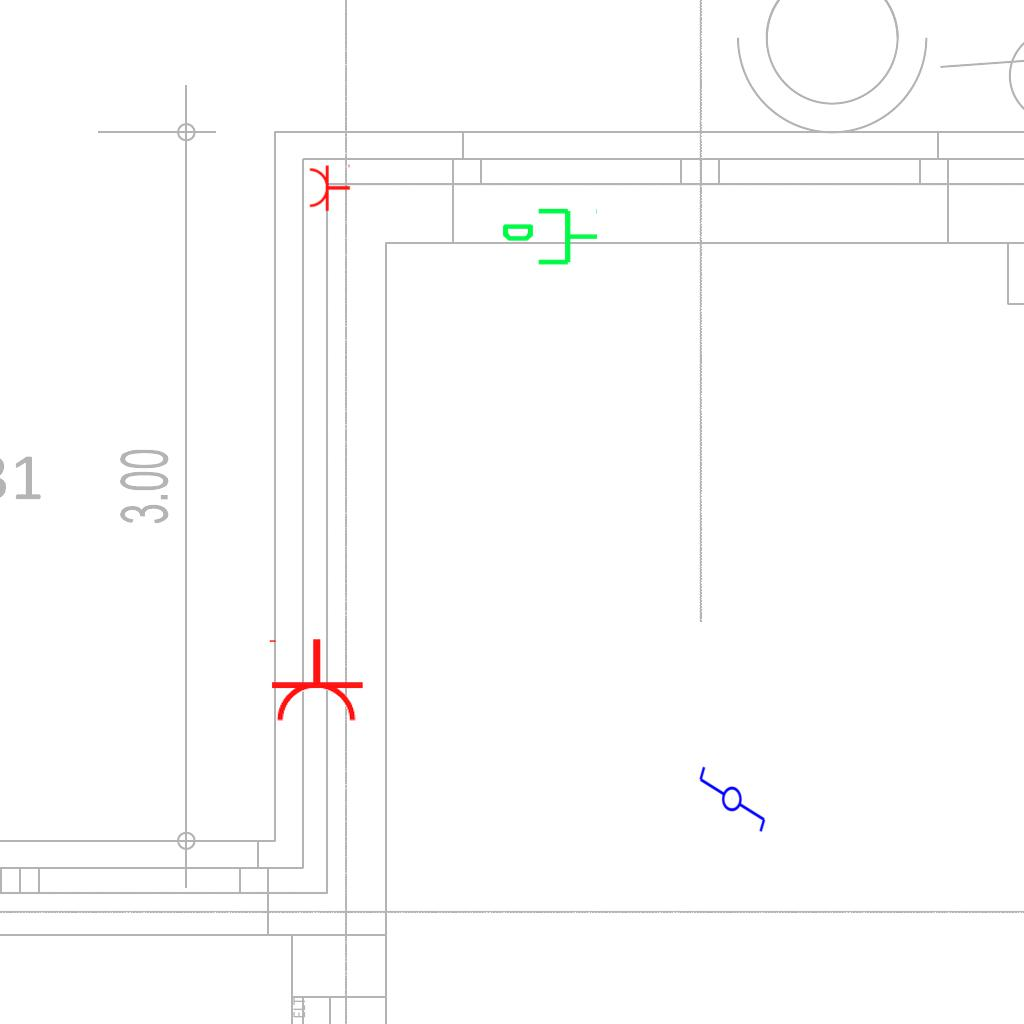Datenanschluss_einfach: (500, 204, 600, 273)
Schukosteckdose_einfach: (265, 637, 365, 724), (308, 162, 351, 212)
Wechselschalter: (697, 756, 769, 834)
